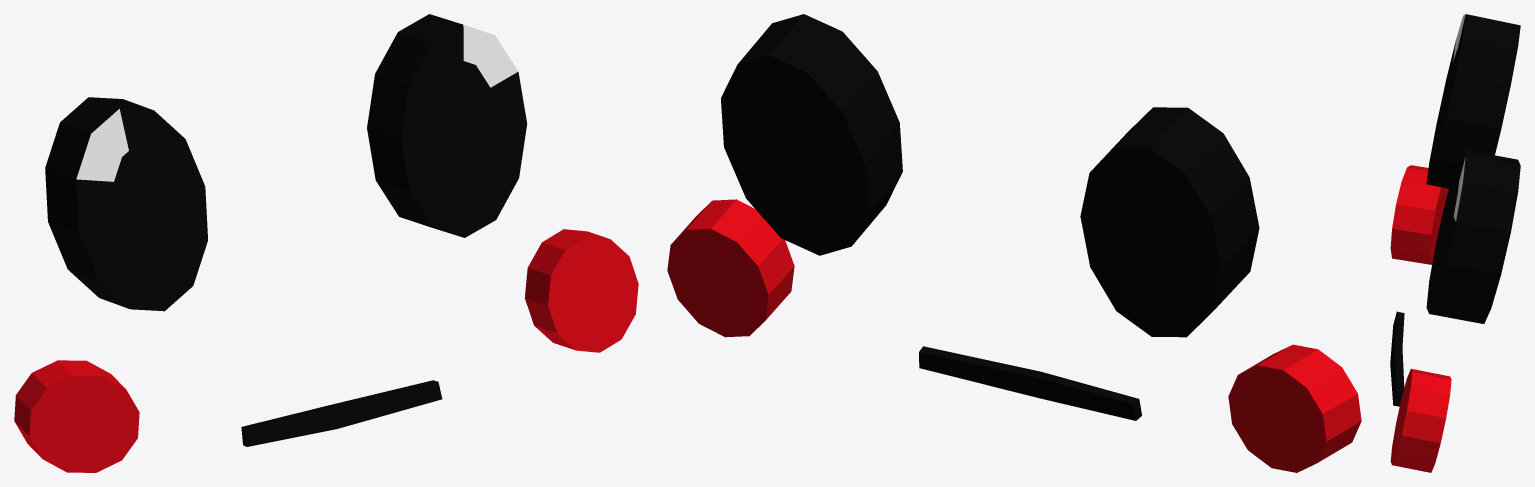
Rendered from CaritaNormal.fbx.
The picture shows the model from 3 angles, left to right: view 1: azimuth 30°, elevation 25°; view 2: azimuth 150°, elevation 25°; view 3: azimuth 270°, elevation 25°; orthographic projection. The views are drawn at different scales.
Visible parts, largest first — view 1: MojaCaritaNormal; view 2: MojaCaritaNormal; view 3: MojaCaritaNormal.
Boxes of the visible parts, <box> form: MojaCaritaNormal: <box>14,14,638,472</box>; MojaCaritaNormal: <box>667,14,1361,472</box>; MojaCaritaNormal: <box>1390,14,1520,472</box>.
Bounding box in the file's own units: 72.24 × 37.93 × 16.03.
